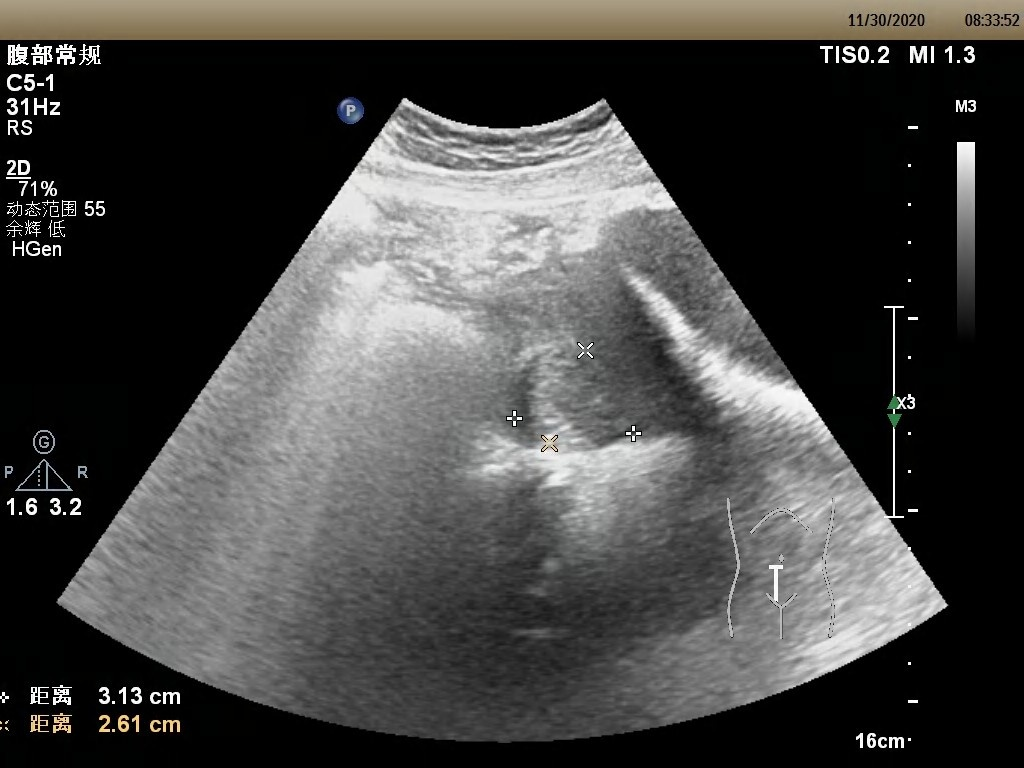肌瘤: (514, 350, 632, 449)
